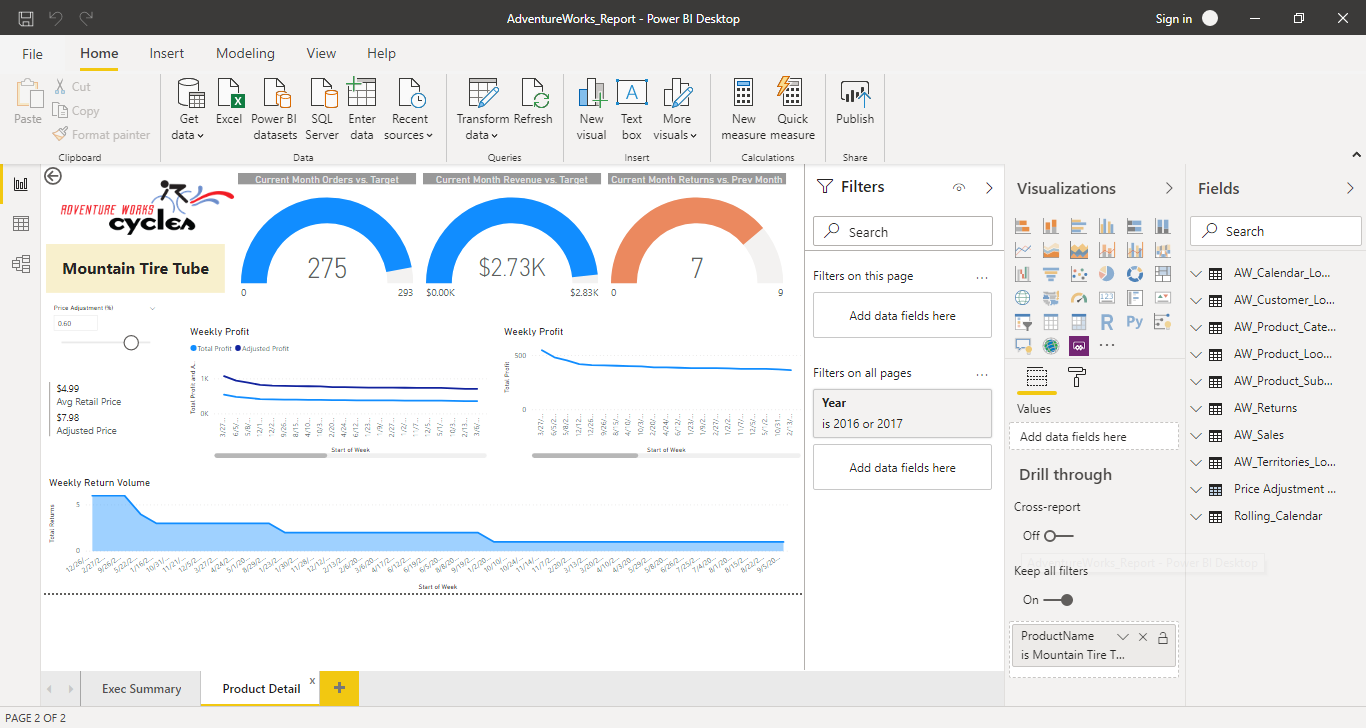

The page's visual inventory and layout, read from the dashboard file:
{"tool":"powerbi","page":{"name":"Product Detail","canvas":[1280,720],"ordinal":1},"visuals":[{"type":"image","box":[8.4,21.8,343.9,102.3],"z":0},{"type":"lineChart","title":"Weekly Profit","fields":{"Y":["AW_Sales.Total Profit"],"Category":["AW_Calendar_Lookup.Start of Week"]},"box":[771.7,270.1,508.3,228.2],"z":1000},{"type":"stackedAreaChart","title":"Weekly Return Volume","fields":{"Category":["AW_Calendar_Lookup.Start of Week"],"Y":["AW_Returns.Total Returns"]},"box":[8.4,523.4,1253.2,196.3],"z":2000},{"type":"gauge","title":"Current Month Orders vs. Target","fields":{"Y":["AW_Sales.Total Orders"],"MaxValue":["AW_Sales.Order Target"]},"box":[330.5,15.1,298.6,238.2],"z":3000},{"type":"gauge","title":"Current Month Revenue vs. Target","fields":{"Y":["AW_Sales.Total Revenue"],"MaxValue":["AW_Sales.Revenue Target"]},"box":[640.8,15.1,298.6,238.2],"z":4000},{"type":"gauge","title":"Current Month Returns vs. Prev Month","fields":{"Y":["AW_Returns.Total Returns"],"MaxValue":["AW_Returns.Prev Month Returns"]},"box":[951.2,15.1,298.6,238.2],"z":5000},{"type":"card","fields":{"Values":["Min(AW_Product_Lookup.ProductName)"]},"box":[8.4,134.2,300.3,82.2],"z":6000},{"type":"actionButton","box":[0,0,100,40],"z":7000},{"type":"slicer","fields":{"Values":["Price Adjustment (%).Price Adjustment (%)"]},"box":[8.4,229.8,196.3,107.4],"z":8000},{"type":"multiRowCard","fields":{"Values":["AW_Product_Lookup.Avg Retail Price","AW_Product_Lookup.Adjusted Price"]},"box":[8.4,360.7,196.3,117.4],"z":9000},{"type":"lineChart","title":"Weekly Profit","fields":{"Y":["AW_Sales.Total Profit","AW_Sales.Adjusted Profit"],"Category":["AW_Calendar_Lookup.Start of Week"]},"box":[244.9,270.1,508.3,228.2],"z":10000}]}

Visuals, with their boxes on the page's 1280x720 design canvas (x1, y1, x2, y2). These are canvas units, not pixel positions in the 1366x728 screenshot, which may show the page scaled, cropped or inside an application window:
image: Rect(8, 22, 352, 124)
"Weekly Profit" lineChart: Rect(772, 270, 1280, 498)
"Weekly Return Volume" stackedAreaChart: Rect(8, 523, 1262, 720)
"Current Month Orders vs. Target" gauge: Rect(330, 15, 629, 253)
"Current Month Revenue vs. Target" gauge: Rect(641, 15, 939, 253)
"Current Month Returns vs. Prev Month" gauge: Rect(951, 15, 1250, 253)
card - Min(AW_Product_Lookup.ProductName): Rect(8, 134, 309, 216)
actionButton: Rect(0, 0, 100, 40)
slicer - Price Adjustment (%).Price Adjustment (%): Rect(8, 230, 205, 337)
multiRowCard - AW_Product_Lookup.Avg Retail Price x AW_Product_Lookup.Adjusted Price: Rect(8, 361, 205, 478)
"Weekly Profit" lineChart: Rect(245, 270, 753, 498)
